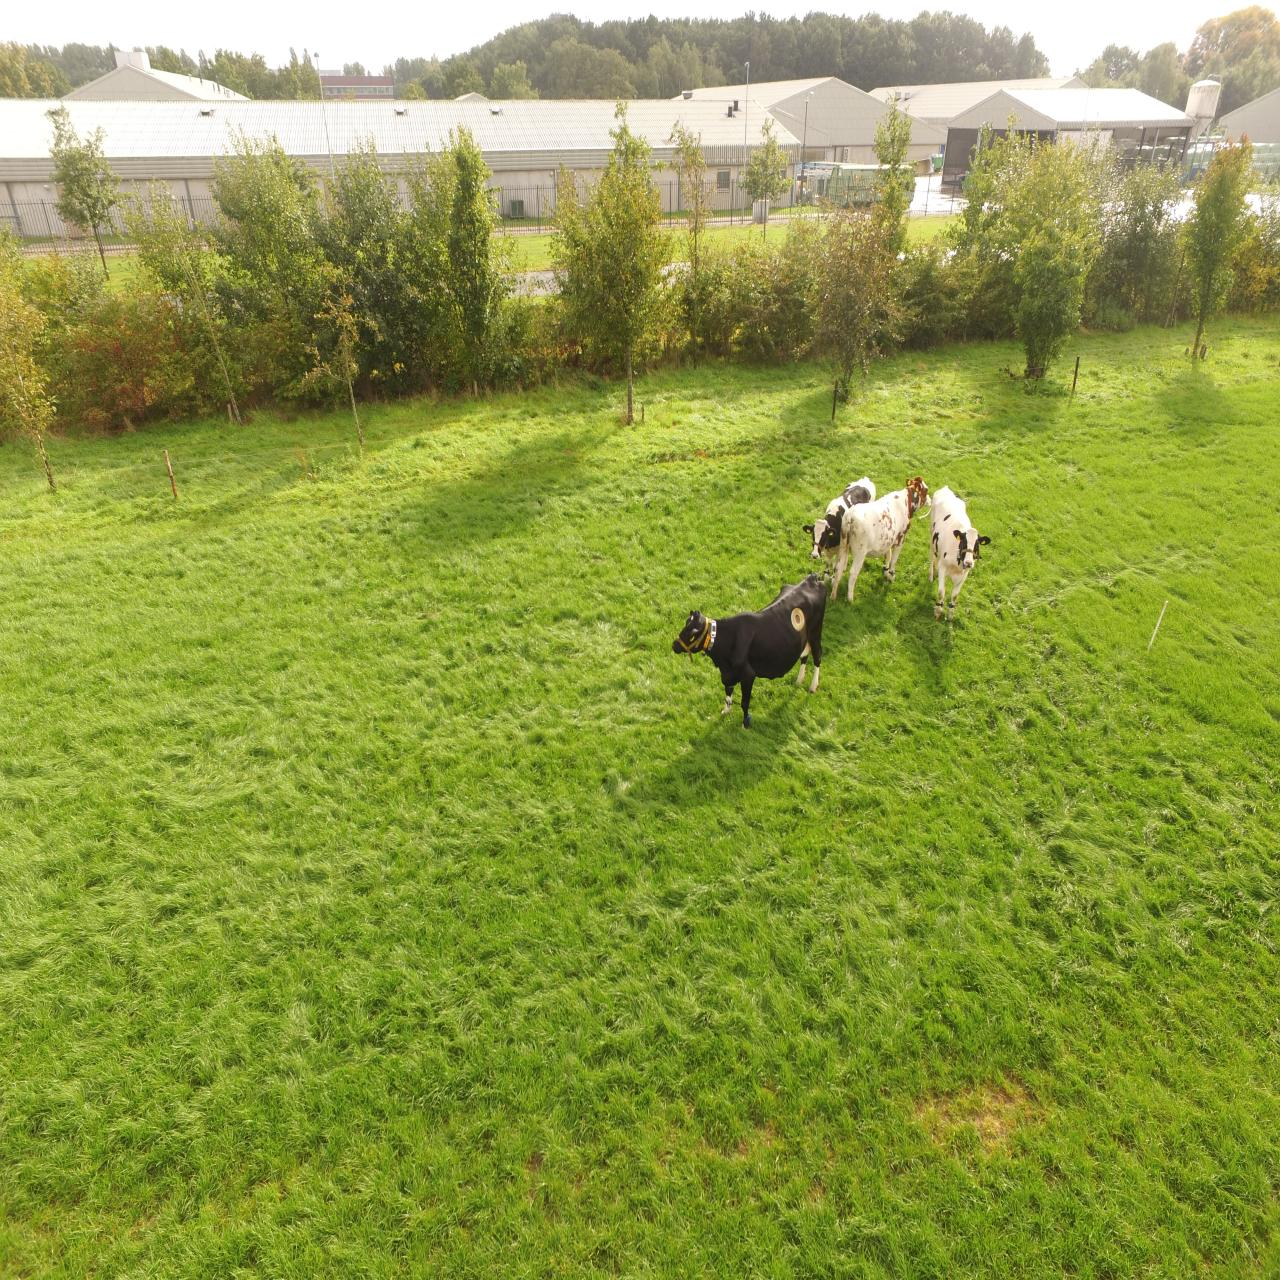cow: (672, 567, 828, 730), (830, 475, 931, 597), (931, 484, 992, 628), (803, 477, 878, 560)
